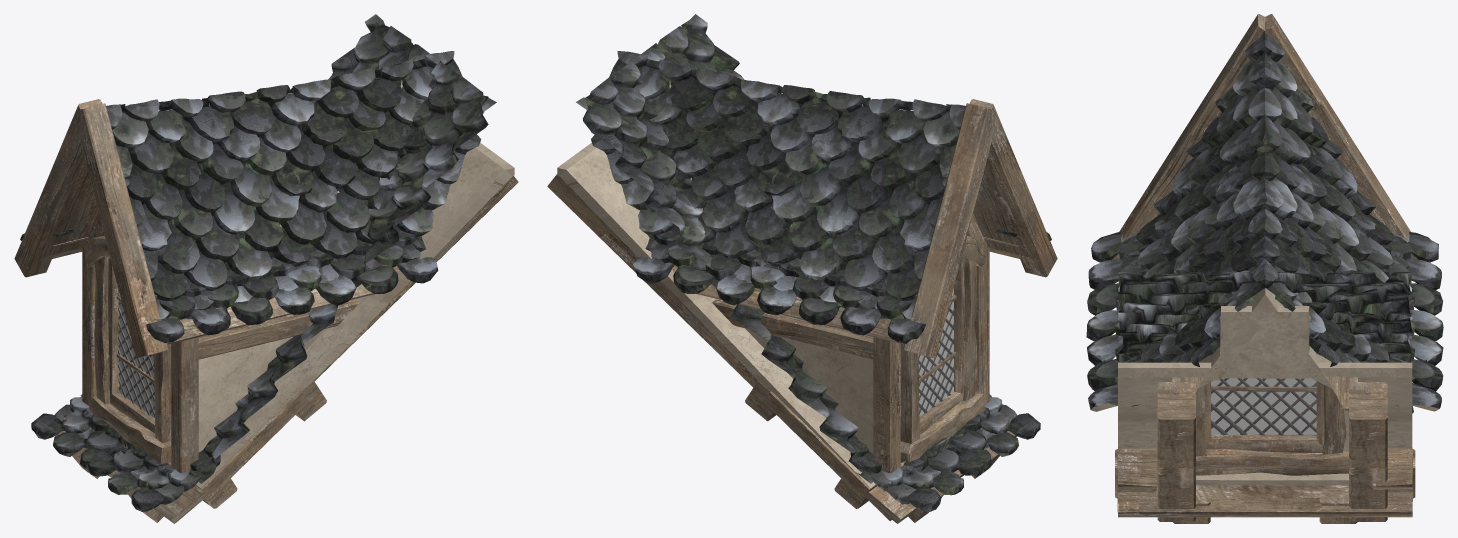
The model's file is SM_Roof_B_04.fbx.
The picture shows the model from 3 angles, left to right: view 1: azimuth 30°, elevation 25°; view 2: azimuth 150°, elevation 25°; view 3: azimuth 270°, elevation 25°; orthographic projection. The views are drawn at different scales.
Visible parts, largest first — view 1: SM_Roof_B_04_LOD0; view 2: SM_Roof_B_04_LOD0; view 3: SM_Roof_B_04_LOD0.
Boxes of the visible parts, x1,y1,x2,y2 form: SM_Roof_B_04_LOD0: (14,14,518,523); SM_Roof_B_04_LOD0: (547,14,1057,523); SM_Roof_B_04_LOD0: (1086,14,1443,523).
Bounding box in the file's own units: 378 × 243 × 365.
